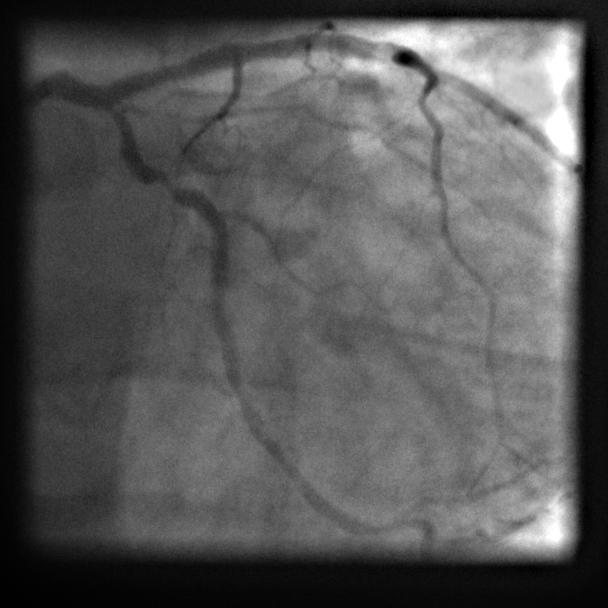Stenosis: (161, 171, 182, 198)
